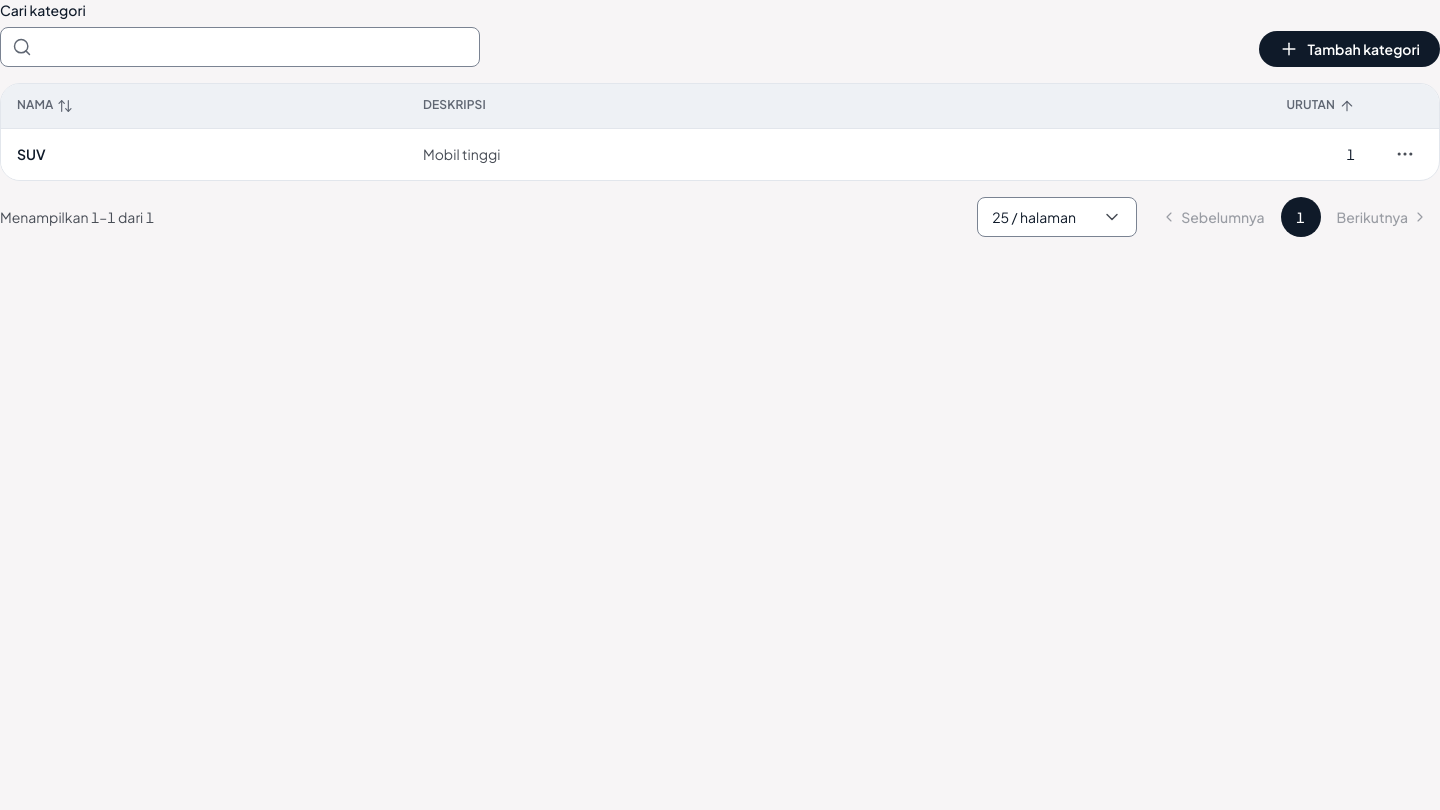
Test case: CategoriesPage › sends an empty description as null and the version on edit
Click the button named "Aksi untuk SUV": (1405,154) [1387,136,1423,172]
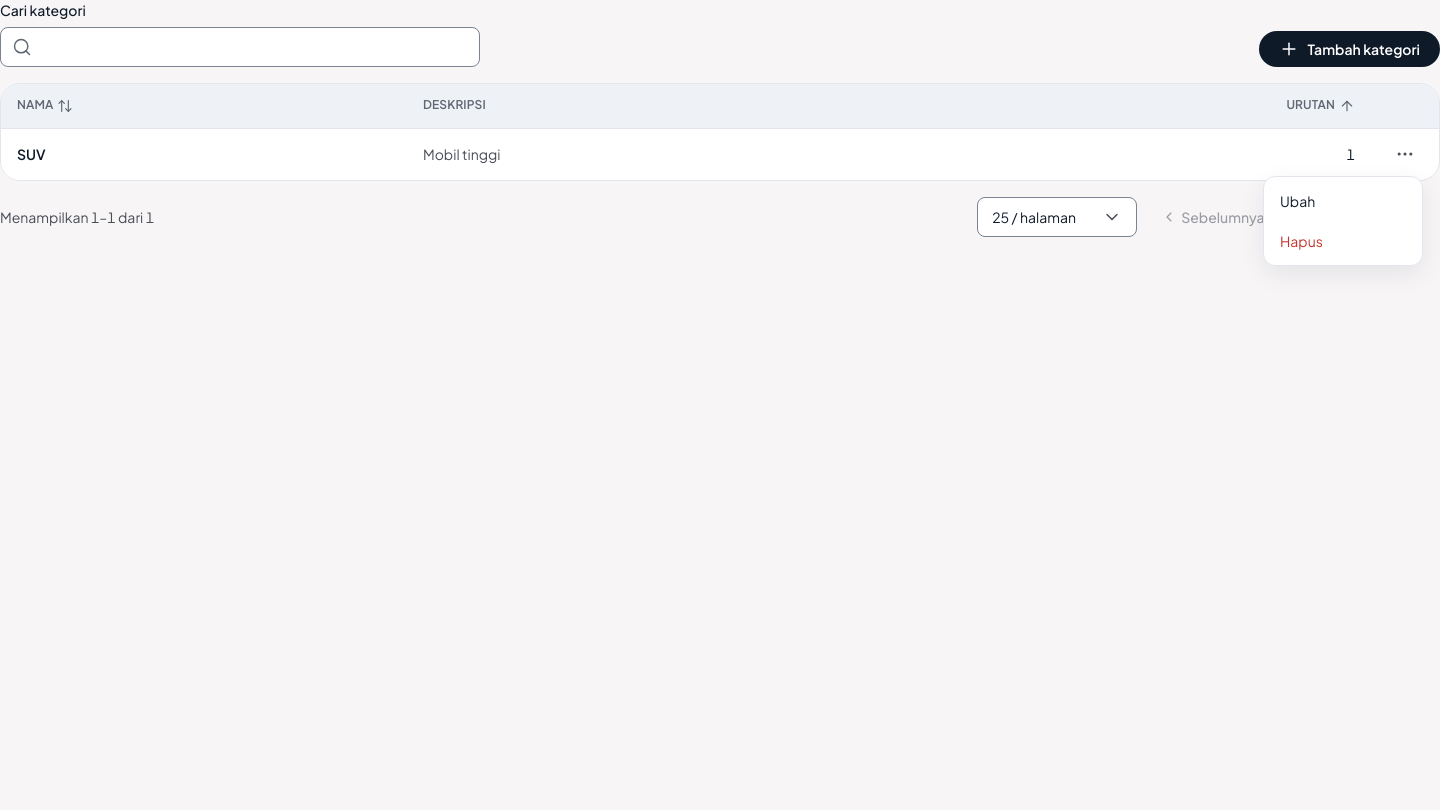
Click the menu item "Ubah": (1298,200) [1280,192,1315,210]
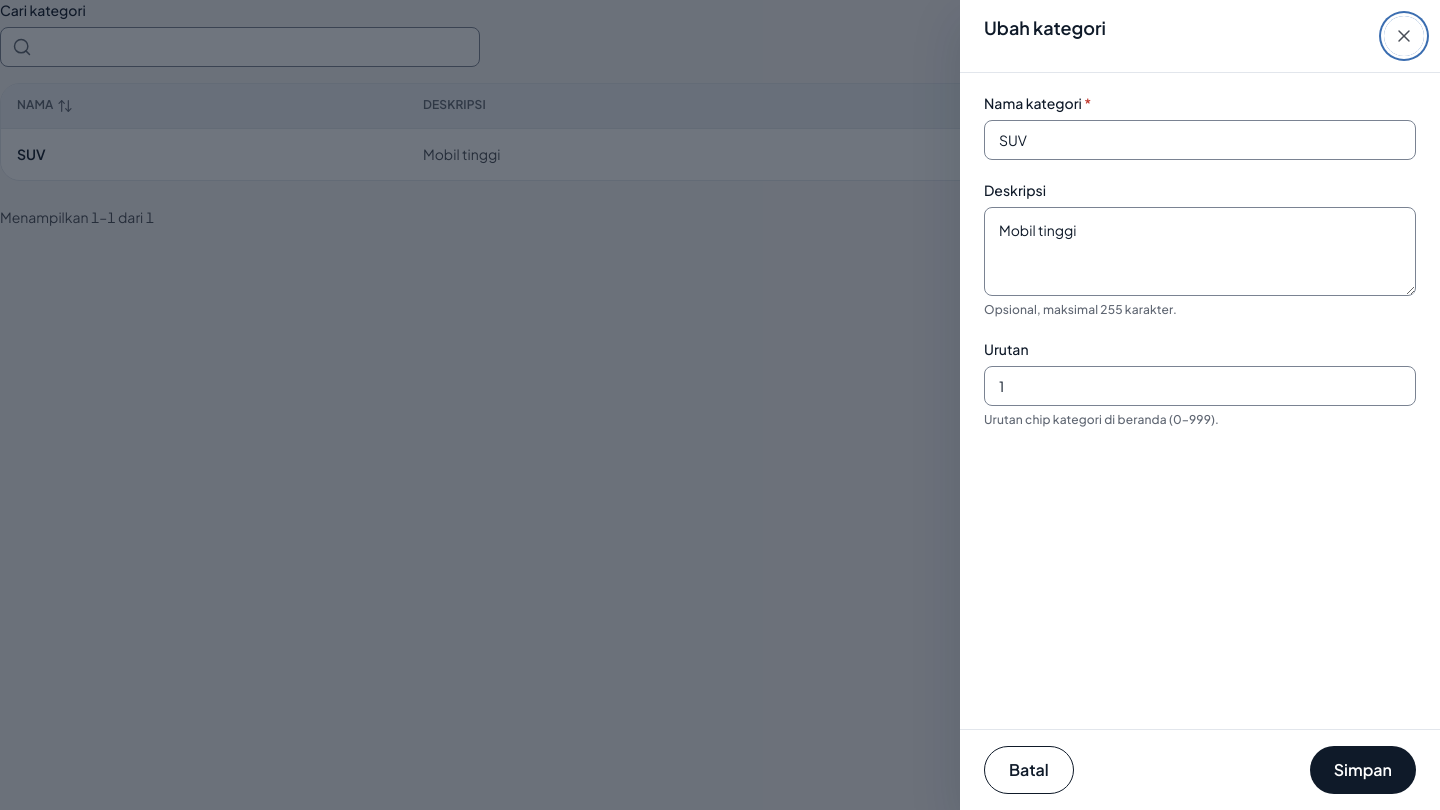
Clear the text box labelled "Deskripsi": (1200,252) [984,207,1416,296]
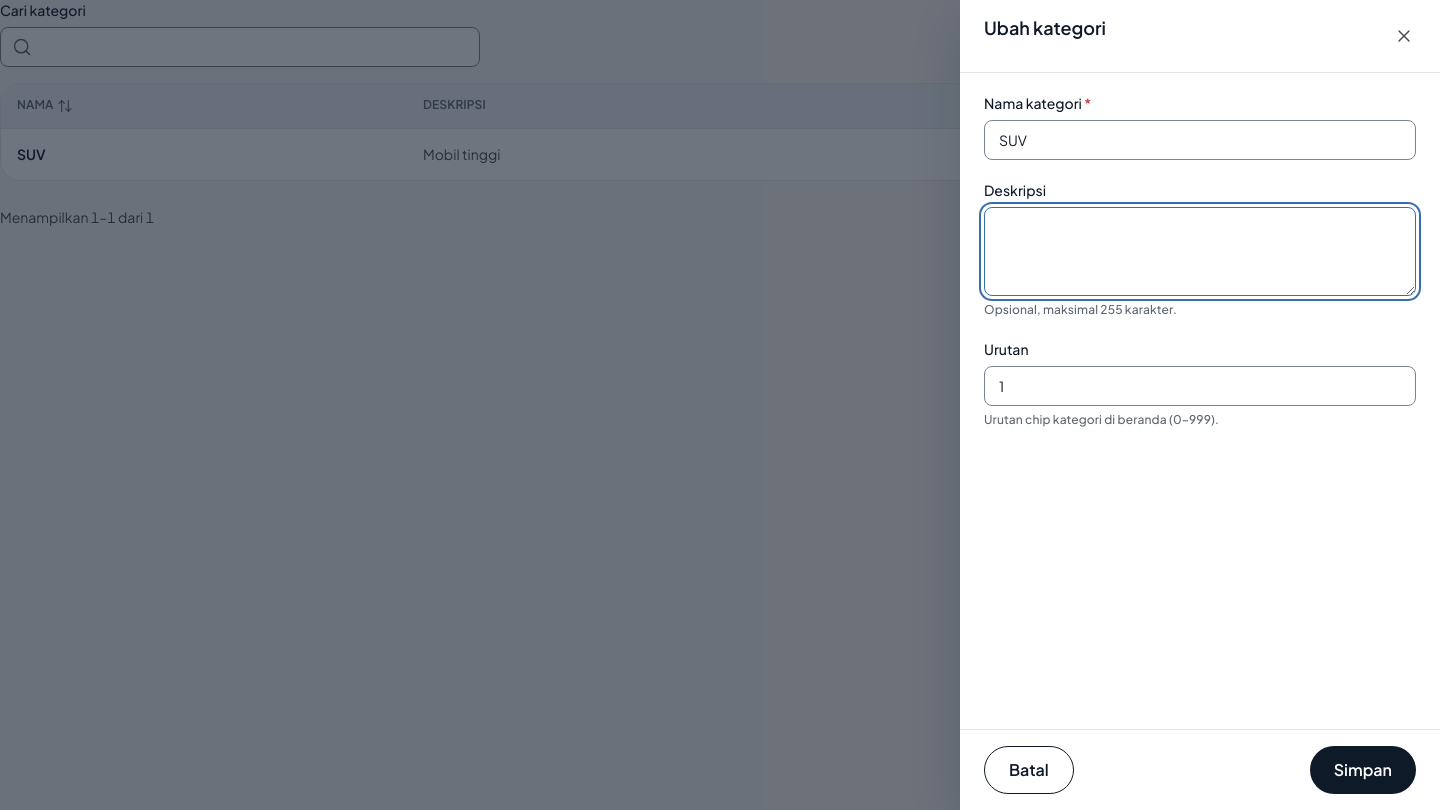
Click the button "Simpan": (1363,770) [1310,746,1416,794]
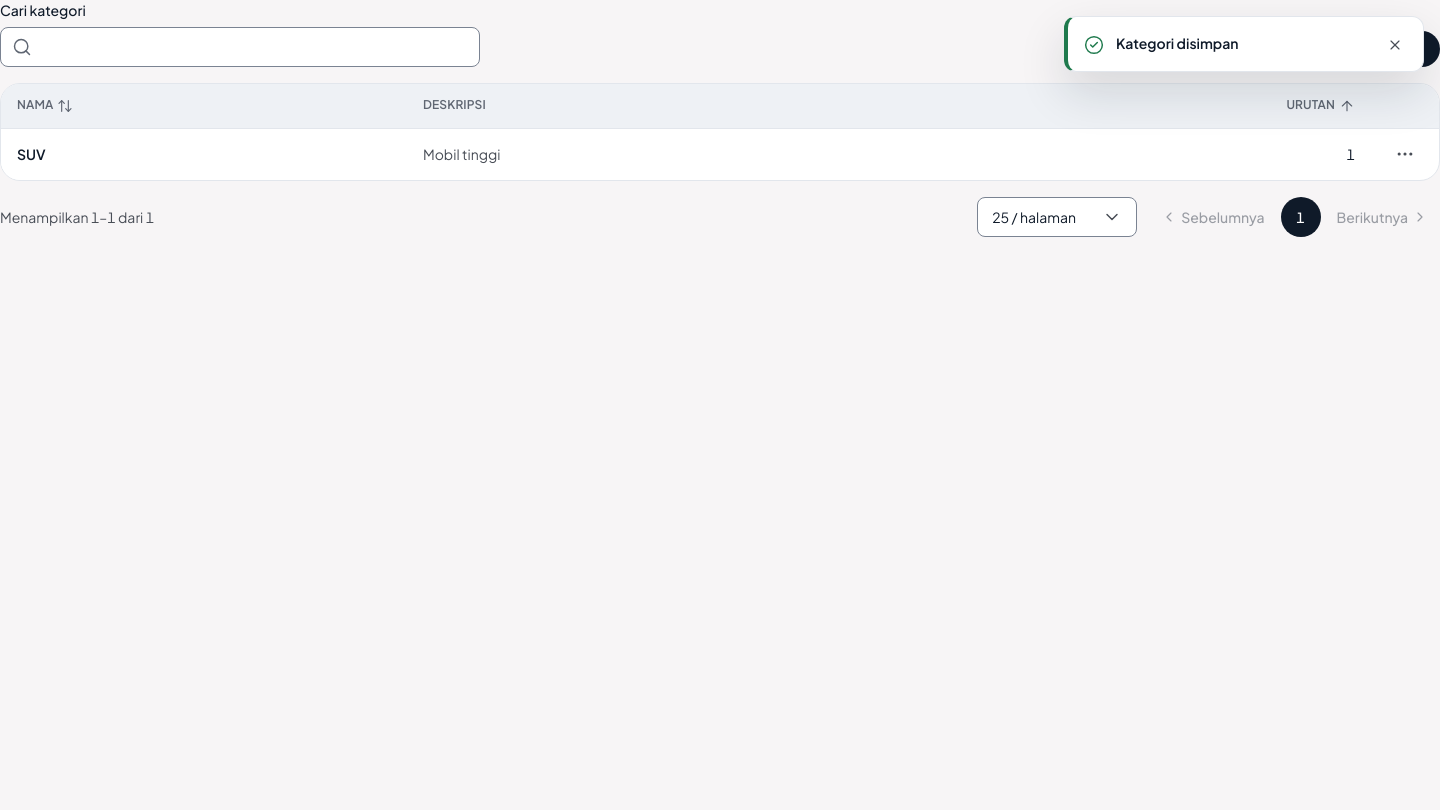
Check: the text "Kategori disimpan" is shown, box [1116,33,1238,54]
